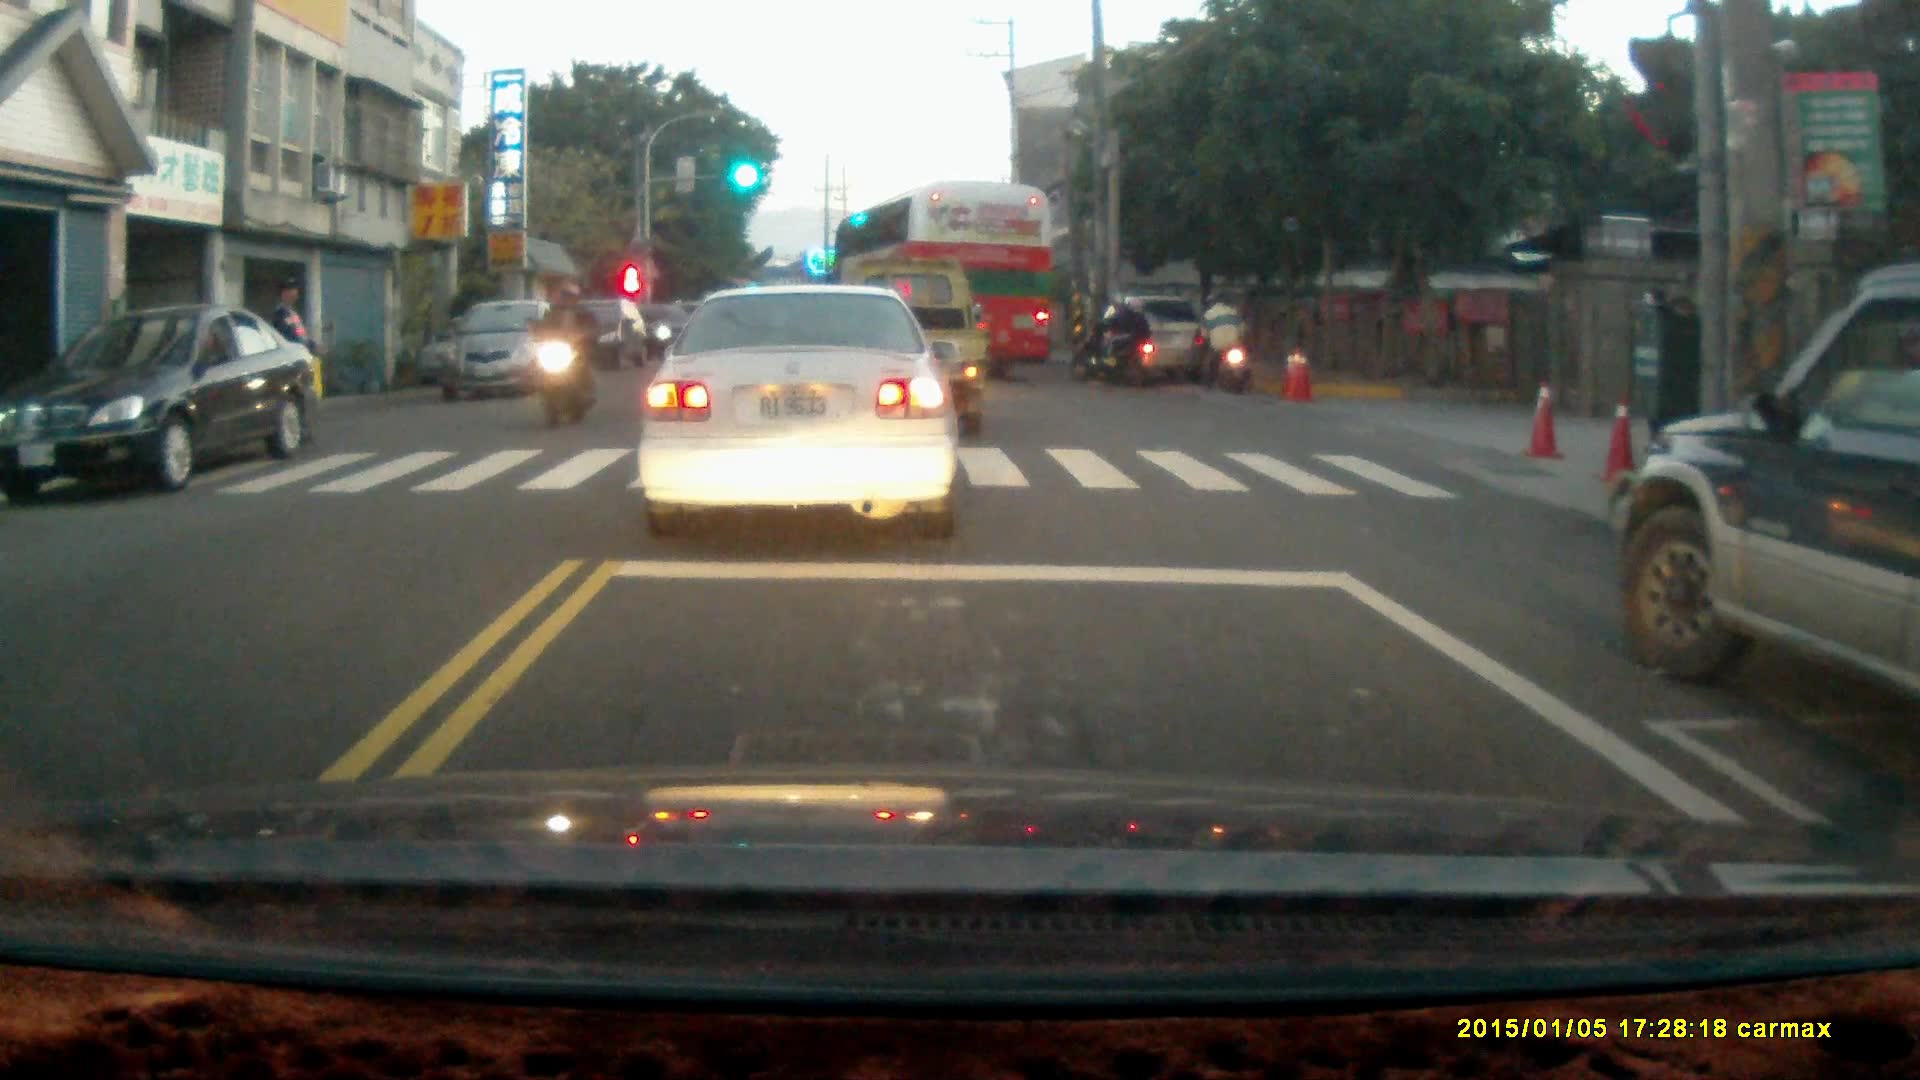pedestrian: (271, 276, 316, 433)
rider: (529, 277, 599, 425), (1075, 287, 1148, 382), (1196, 287, 1254, 396)
vehicle: (1620, 267, 1920, 764), (638, 273, 961, 535), (1, 305, 323, 504), (832, 174, 1060, 383), (428, 292, 577, 396), (1093, 290, 1211, 382), (555, 298, 649, 373)
